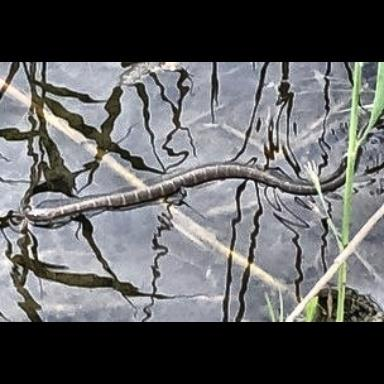snake: (30, 162, 343, 219)
